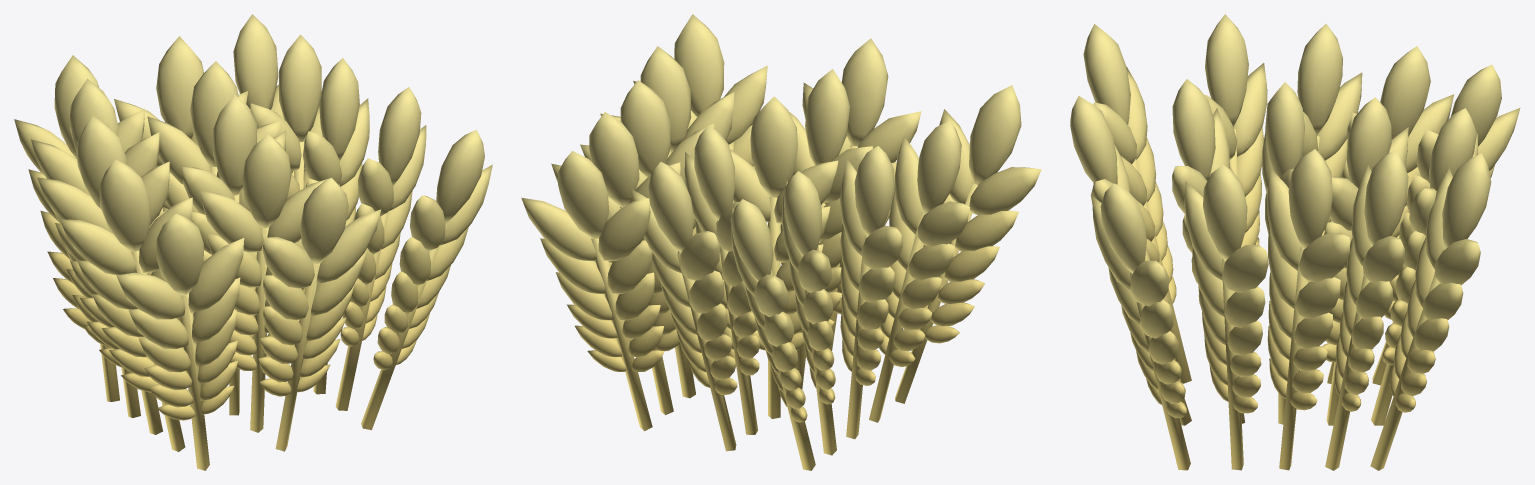
The model's file is Wheat.fbx.
3 renders of one model, left to right at view 1: azimuth 30°, elevation 25°; view 2: azimuth 150°, elevation 25°; view 3: azimuth 270°, elevation 25°, orthographic. The views are drawn at different scales.
Visible parts, largest first — view 1: Wheat; view 2: Wheat; view 3: Wheat.
Part boxes in pixels (x1,y1,x2,y2): Wheat: [14, 14, 492, 470]; Wheat: [521, 14, 1041, 470]; Wheat: [1070, 14, 1520, 470].
Bounding box in the file's own units: 0.613 × 0.4793 × 0.5701.
